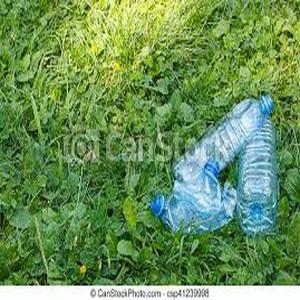Plastic: (174, 89, 272, 180), (149, 166, 237, 233), (236, 126, 284, 234)
